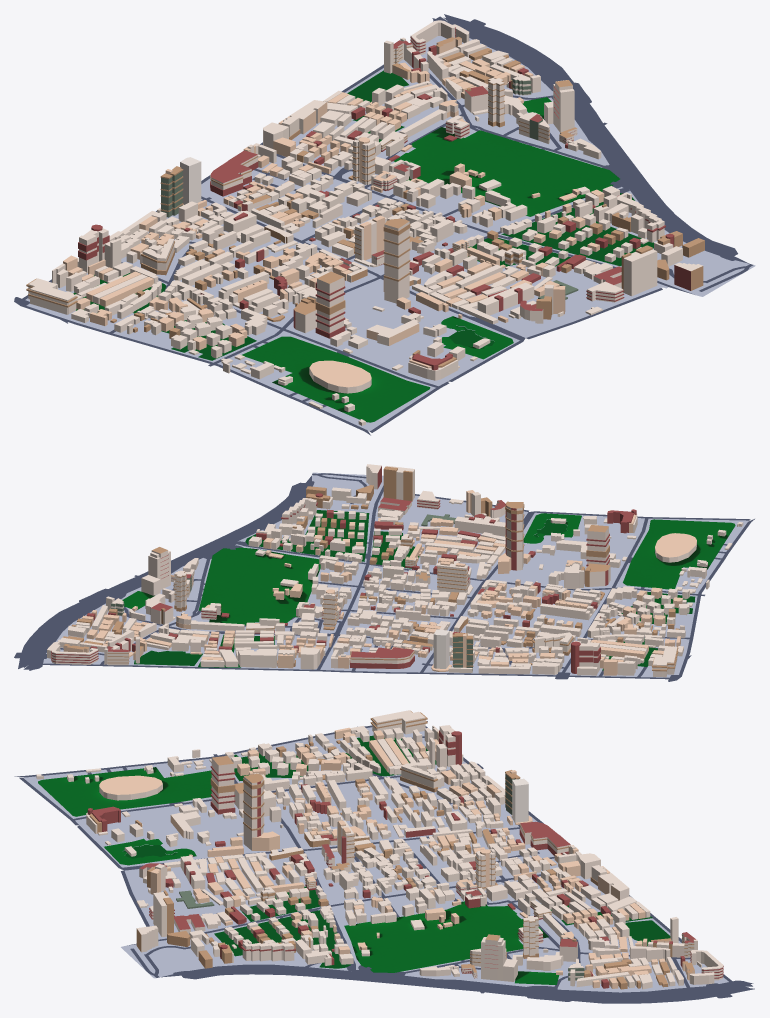
File: ncl.glb
3 views of the same model, one above another, from view 1: azimuth 30°, elevation 25°; view 2: azimuth 150°, elevation 25°; view 3: azimuth 270°, elevation 25° (orthographic). The views are drawn at different scales.
Visible parts, largest first — view 1: Group2079, di, gongyuan2; view 2: Group2079, di, gongyuan2; view 3: Group2079, di, gongyuan2.
Boxes of the visible parts, <box> form: Group2079: <box>26,20,704,425</box>; di: <box>14,14,755,435</box>; gongyuan2: <box>73,70,653,422</box>; Group2079: <box>47,464,743,677</box>; di: <box>14,472,754,681</box>; gongyuan2: <box>122,510,735,670</box>; Group2079: <box>36,710,723,989</box>; di: <box>14,721,754,1003</box>; gongyuan2: <box>38,735,670,984</box>.
Bounding box in the file's own units: 12.43 × 1.41 × 13.69.
10 materials, 1 textured.
